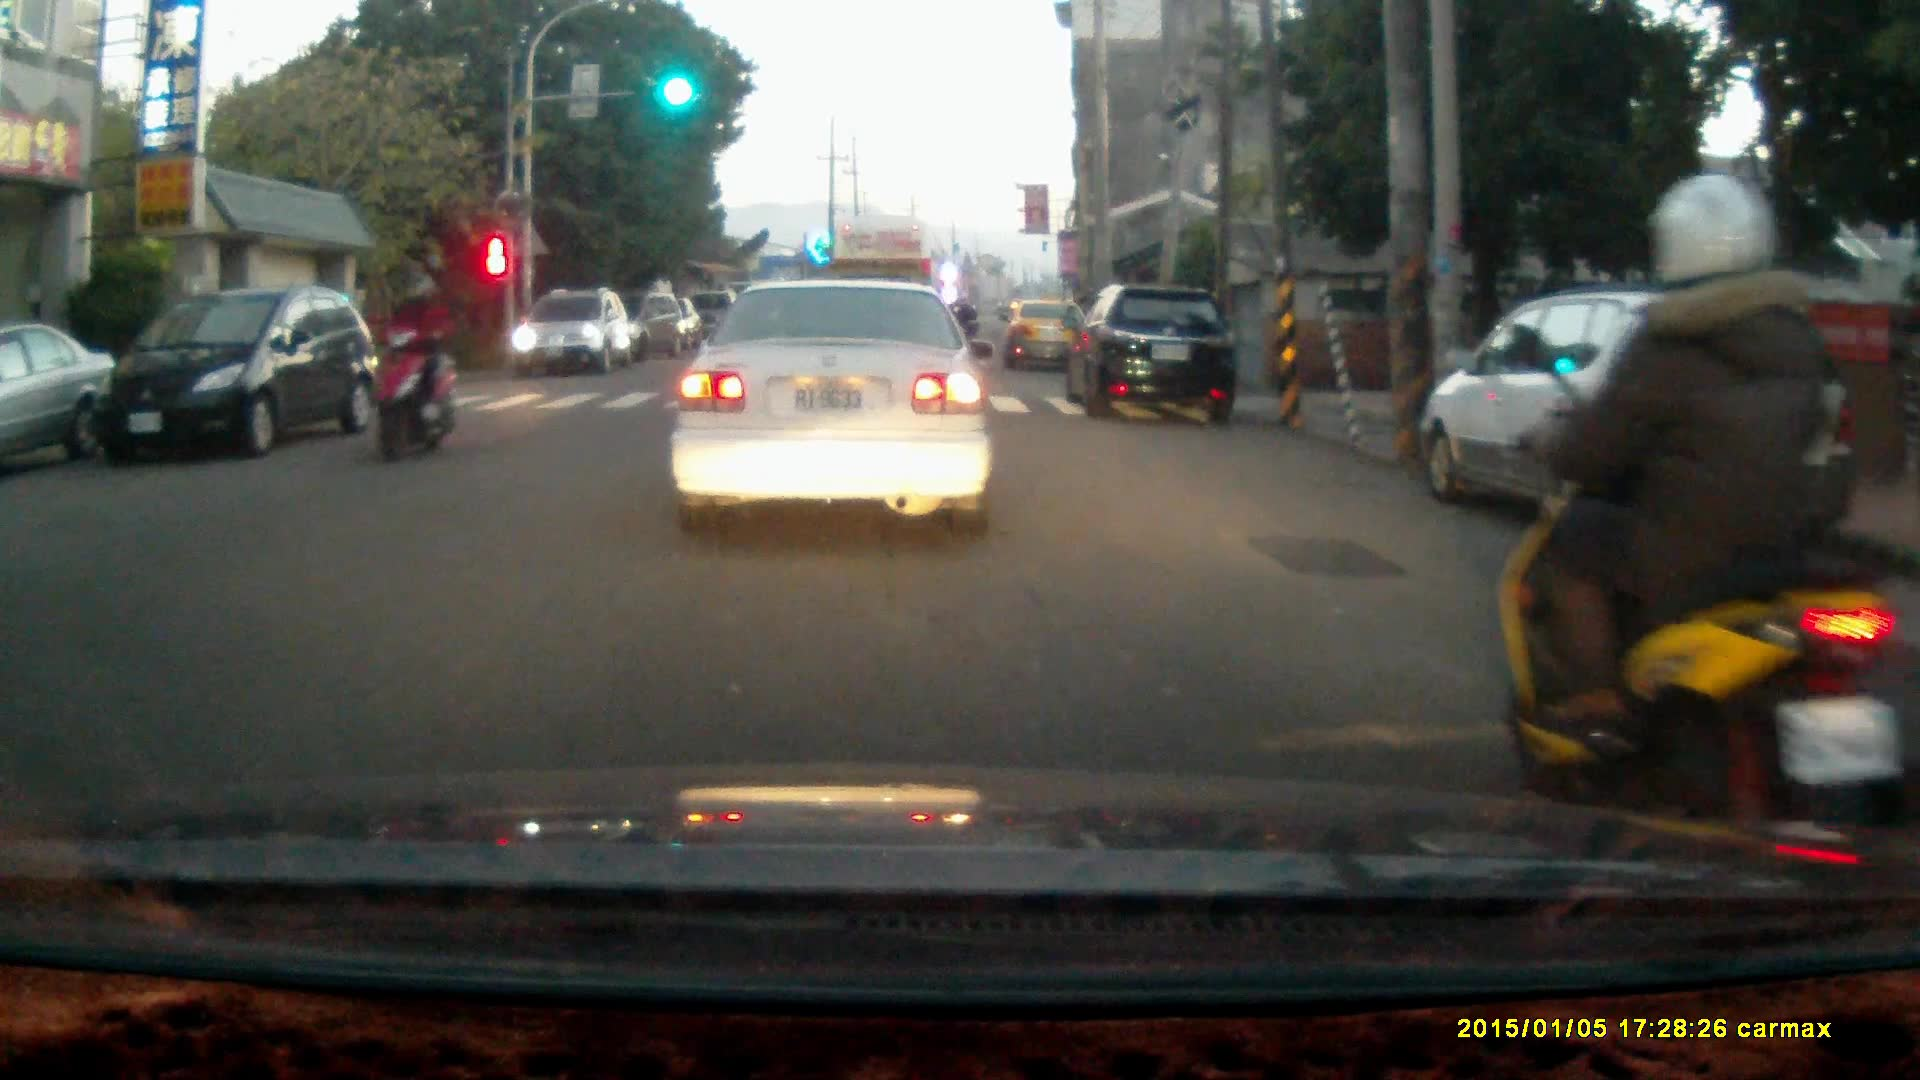rider: (1494, 169, 1920, 889), (365, 267, 452, 465)
vehicle: (1415, 289, 1858, 556), (675, 273, 997, 531), (87, 282, 384, 463), (1076, 284, 1237, 422), (827, 208, 942, 364), (0, 320, 114, 474), (513, 290, 636, 380), (1003, 296, 1098, 375)
